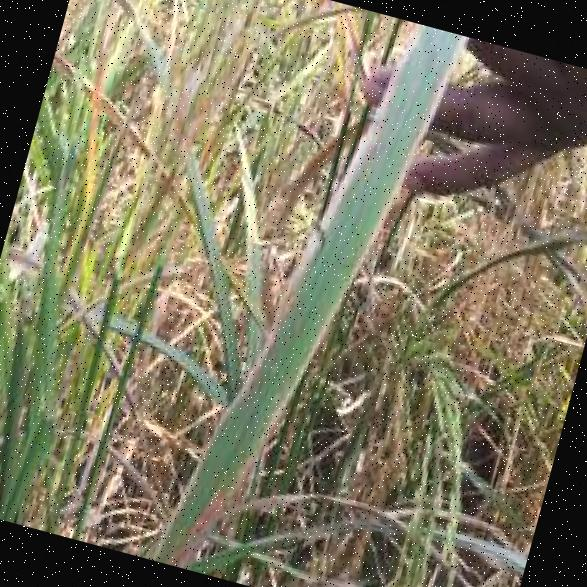Bacteria_Leaf_Blight: (204, 4, 426, 491)
